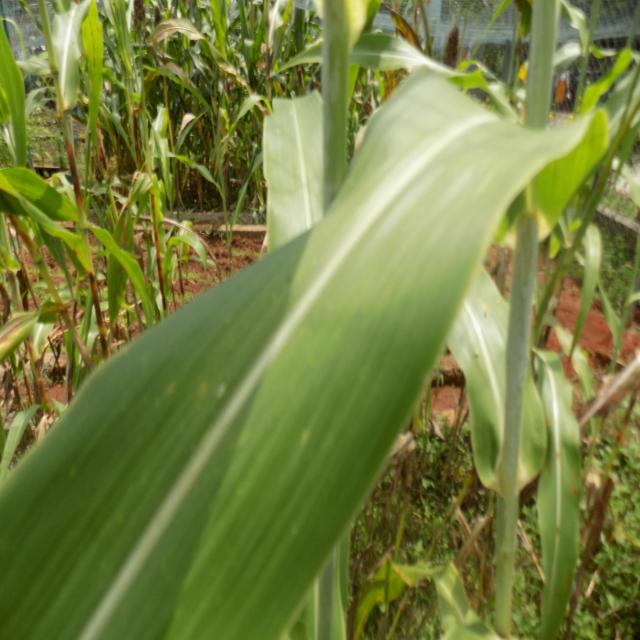millet_healthy: (0, 64, 597, 640), (454, 262, 546, 488), (536, 338, 586, 640), (264, 86, 326, 255)
